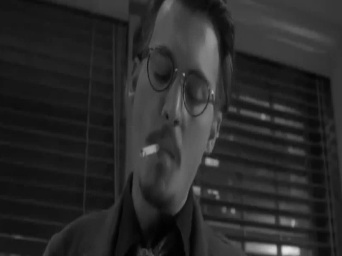smoke: (139, 142, 162, 156)
